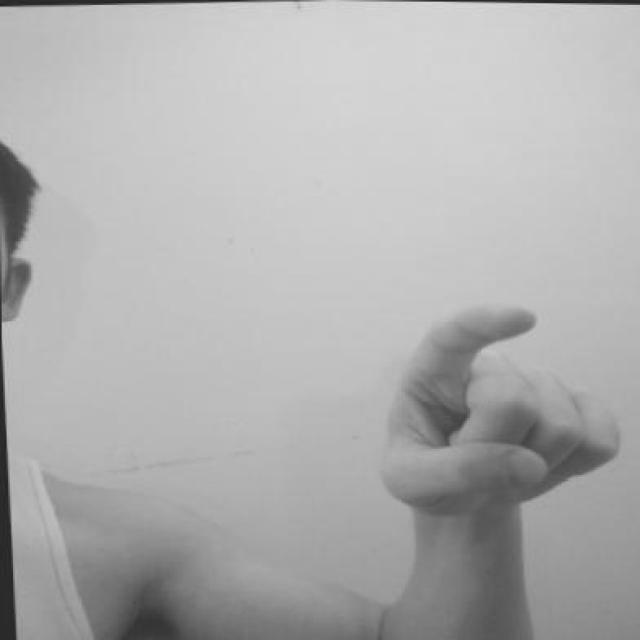Z: (364, 292, 630, 521)
